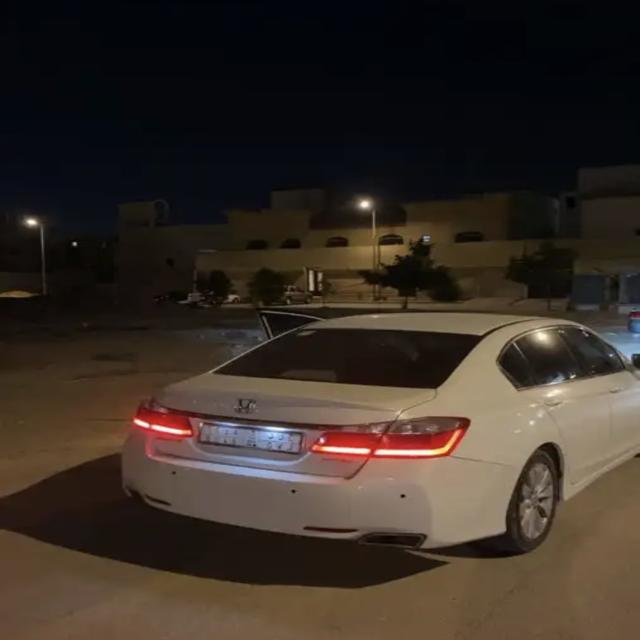license_plate: (199, 421, 303, 458)
